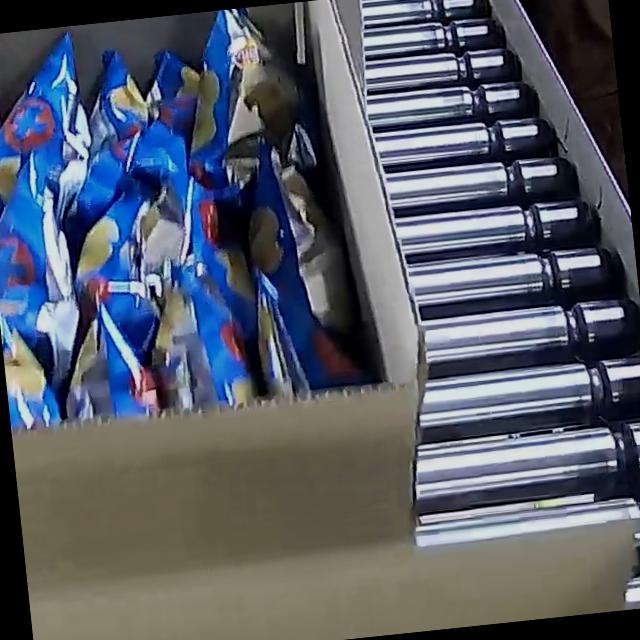paprika: (0, 0, 371, 431)
